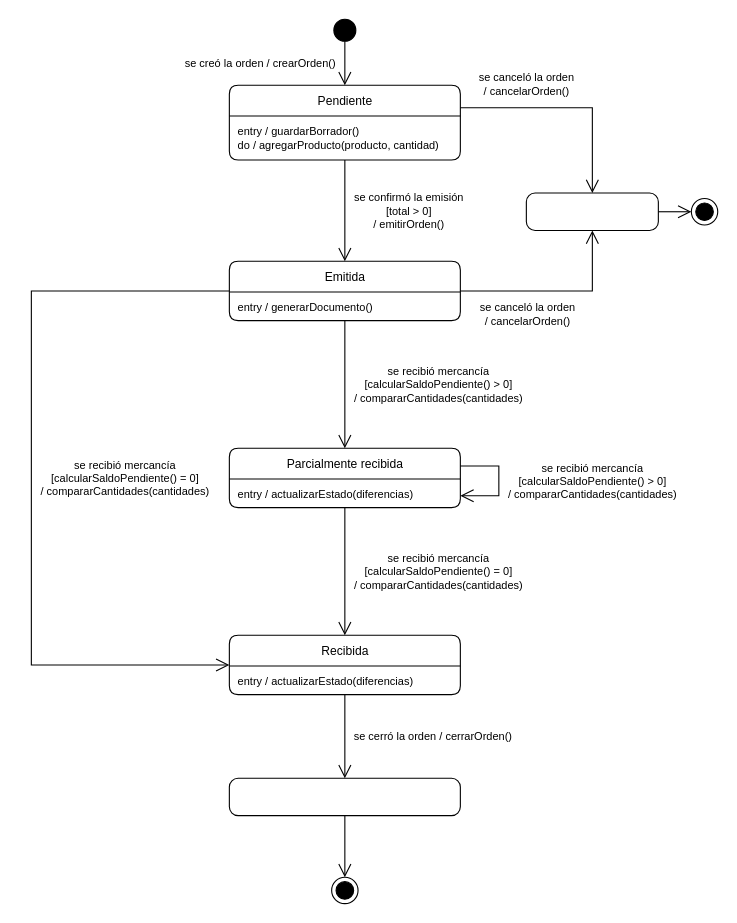
This 737x923 diagram has some shape labels left out. Here are the shapes that lost their labels. From the top down, the centre of each, then its label:
[591,211]: Cancelada
[344,796]: Cerrada
